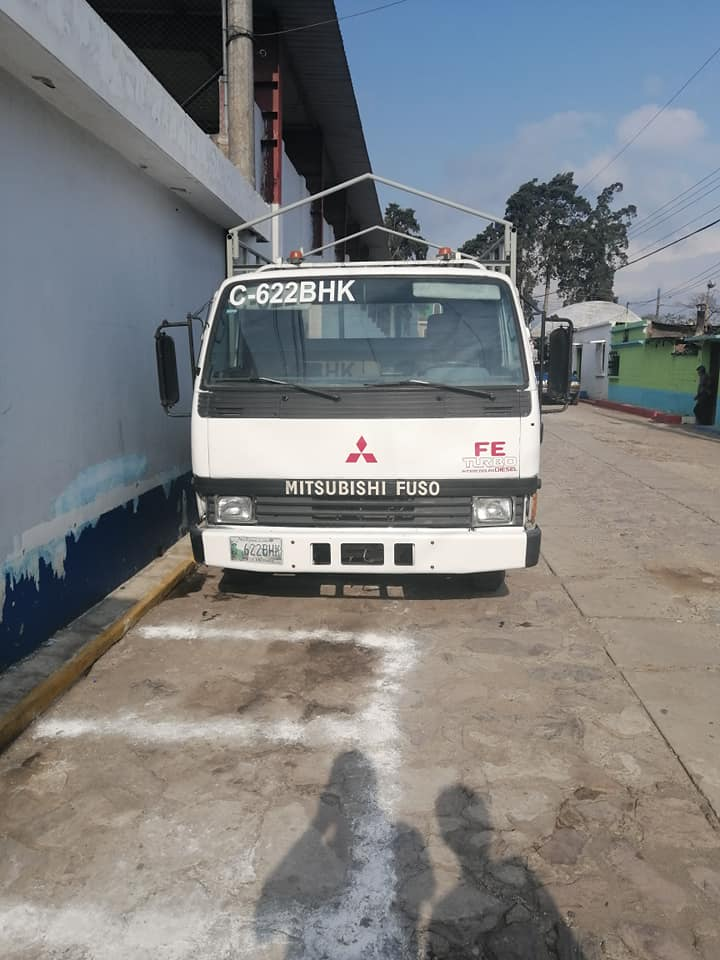camion: (178, 240, 545, 604)
